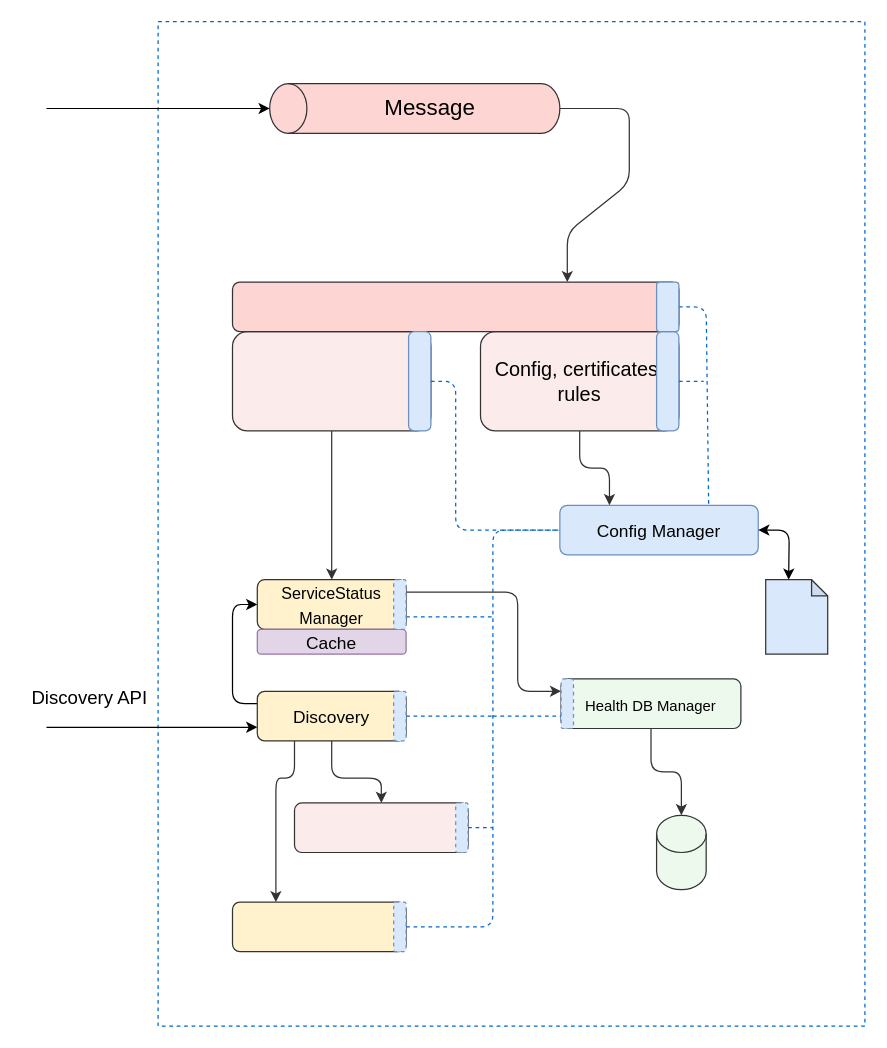
This 887x1048 diagram has some shape labels left out. The shapes that lost their labels are listed below. From the top down, each one's box as (x1, y1, x2, y2) in pixels, then its label:
(231, 281, 679, 332): Comms Interface
(231, 330, 431, 431): ServiceInfo
(293, 802, 468, 852): Access Manager
(231, 901, 406, 952): Load Balancer
